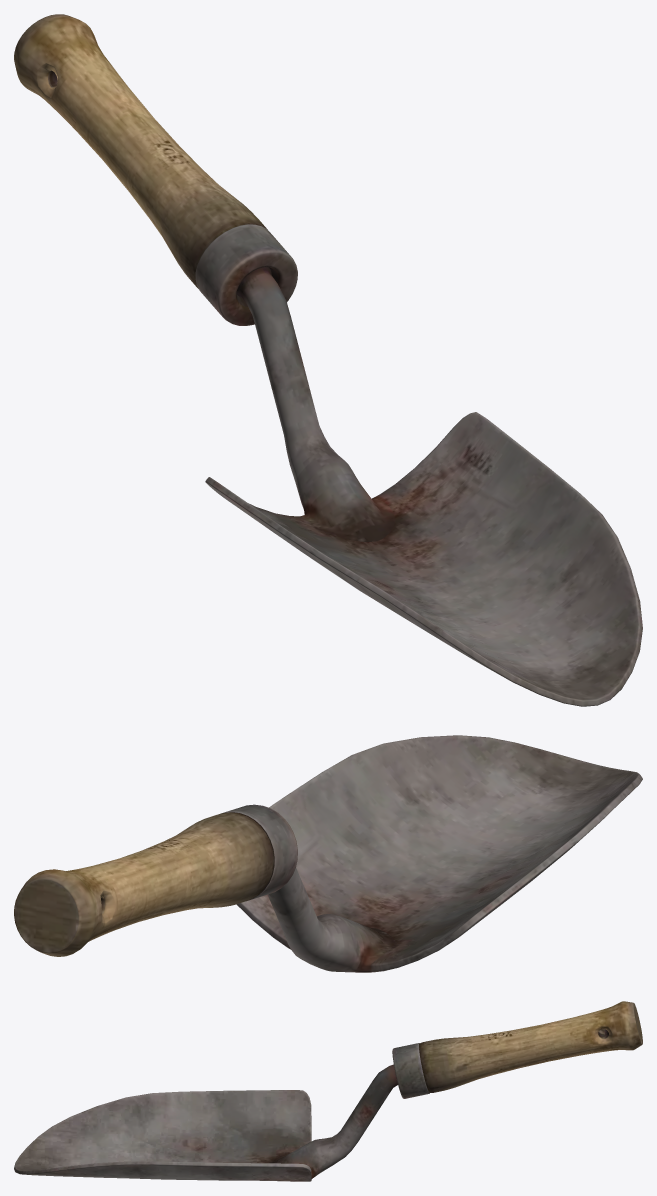
Rendered from trowel_01.glb.
3 views of the same model, one above another, from view 1: azimuth 30°, elevation 25°; view 2: azimuth 150°, elevation 25°; view 3: azimuth 270°, elevation 25° (orthographic). The views are drawn at different scales.
Parts seen in each view (by area): view 1: trowel_01; view 2: trowel_01; view 3: trowel_01.
Part boxes in pixels (left/top/right/bottom): trowel_01: left=14, top=14, right=642, bottom=706; trowel_01: left=14, top=735, right=642, bottom=972; trowel_01: left=14, top=1001, right=642, bottom=1181.
Size of the model in its own units: 0.0991 by 0.1026 by 0.3469.
1 material, 1 textured.
